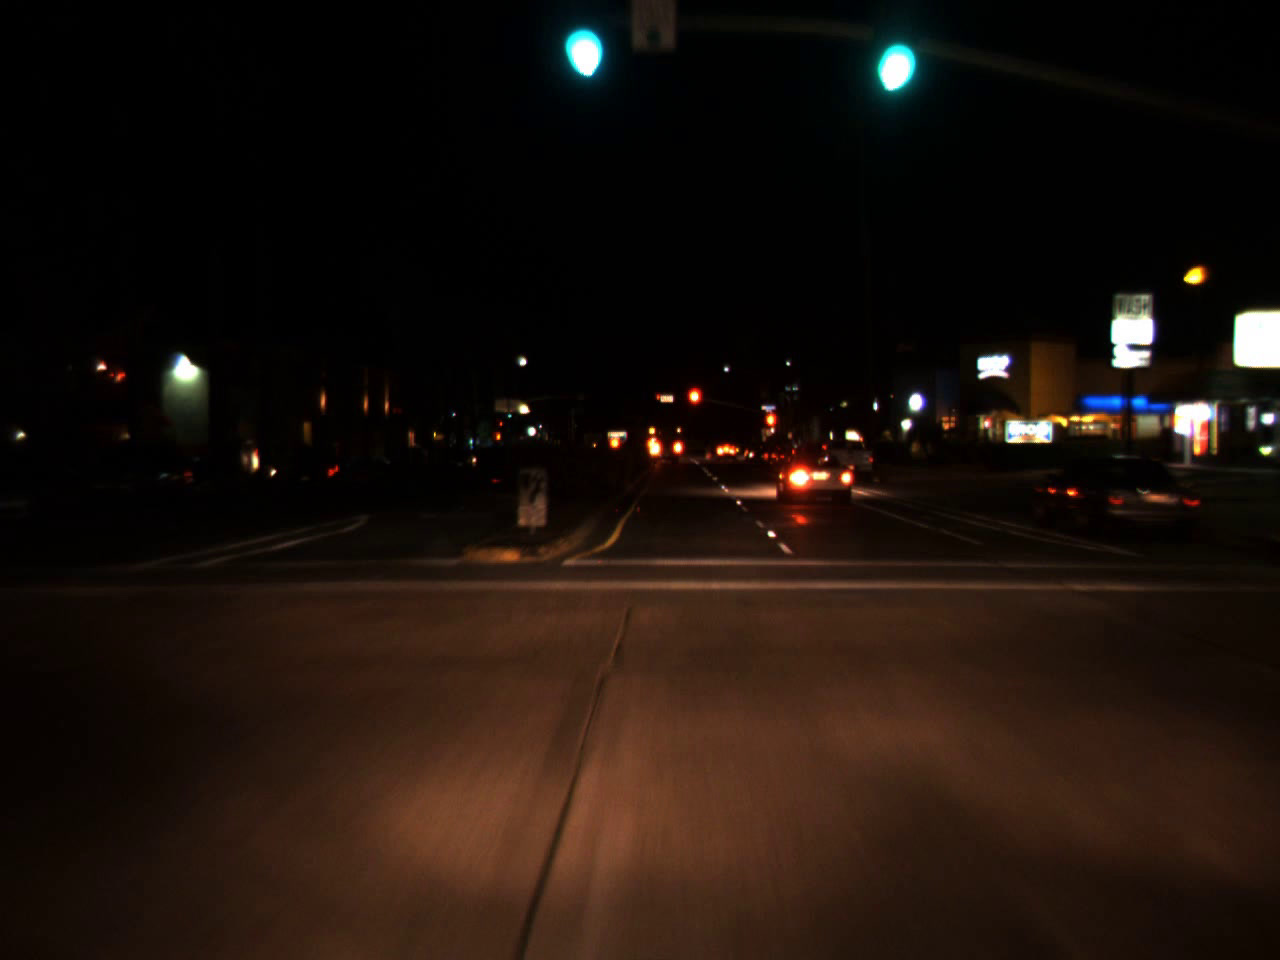go: (869, 16, 912, 97), (559, 7, 605, 79)
stop: (686, 385, 704, 425), (763, 407, 778, 452), (656, 394, 662, 404)
